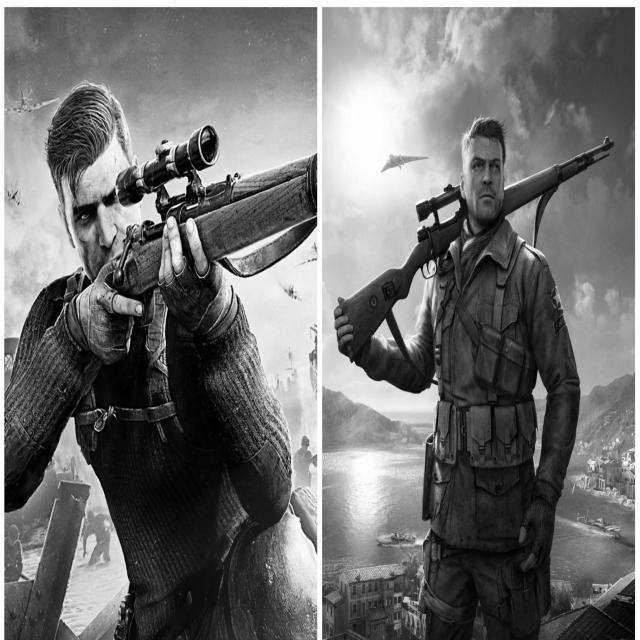Sniper: (328, 137, 612, 338), (108, 156, 326, 342)
